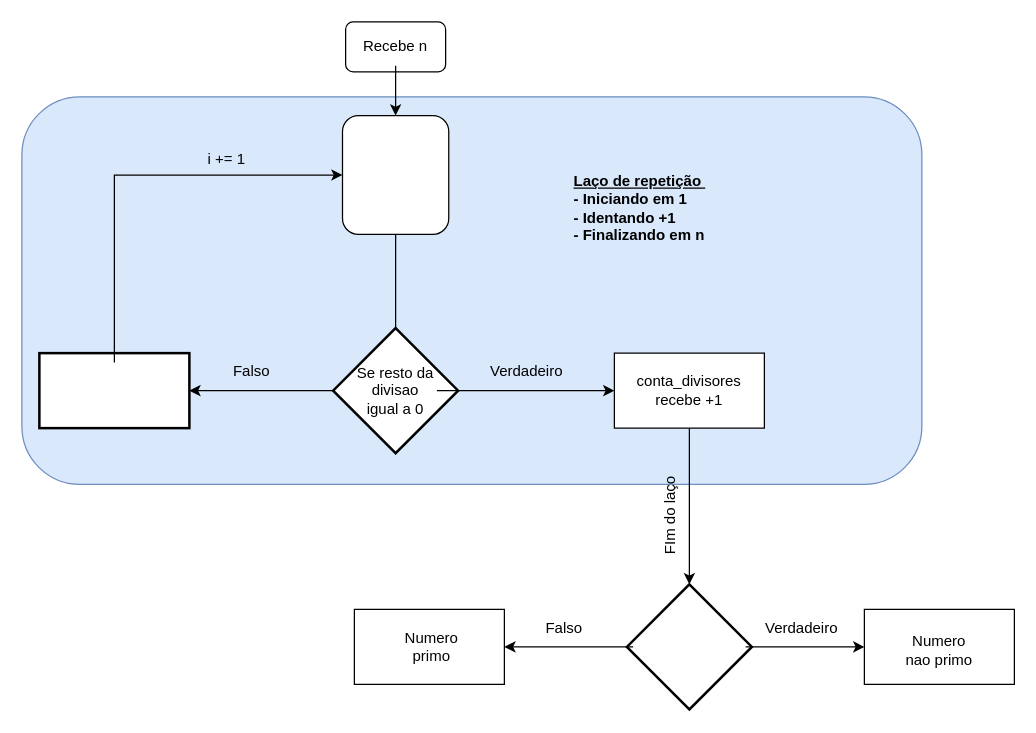
This 1036x733 diagram has some shape labels left out. Here are the shapes that lost their labels. From the top down, the box of each, then its label:
(341, 114, 449, 234): Divide n por todos os numeros de 2 a n
(38, 351, 190, 429): Identador pula +1 para conta
(625, 582, 752, 710): Se conta_divisores > 2
